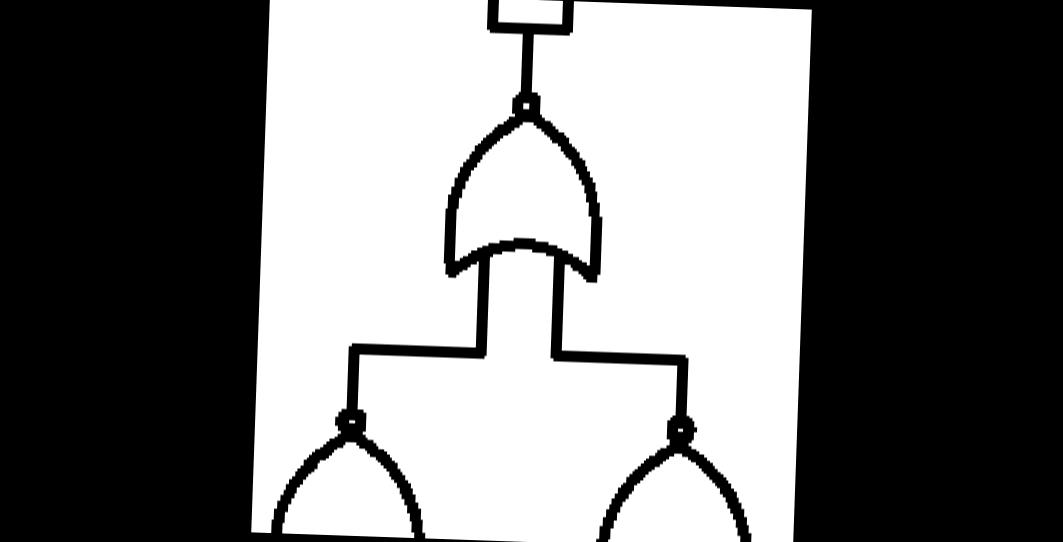nor: (427, 72, 636, 302), (259, 378, 455, 540), (574, 392, 771, 542)
